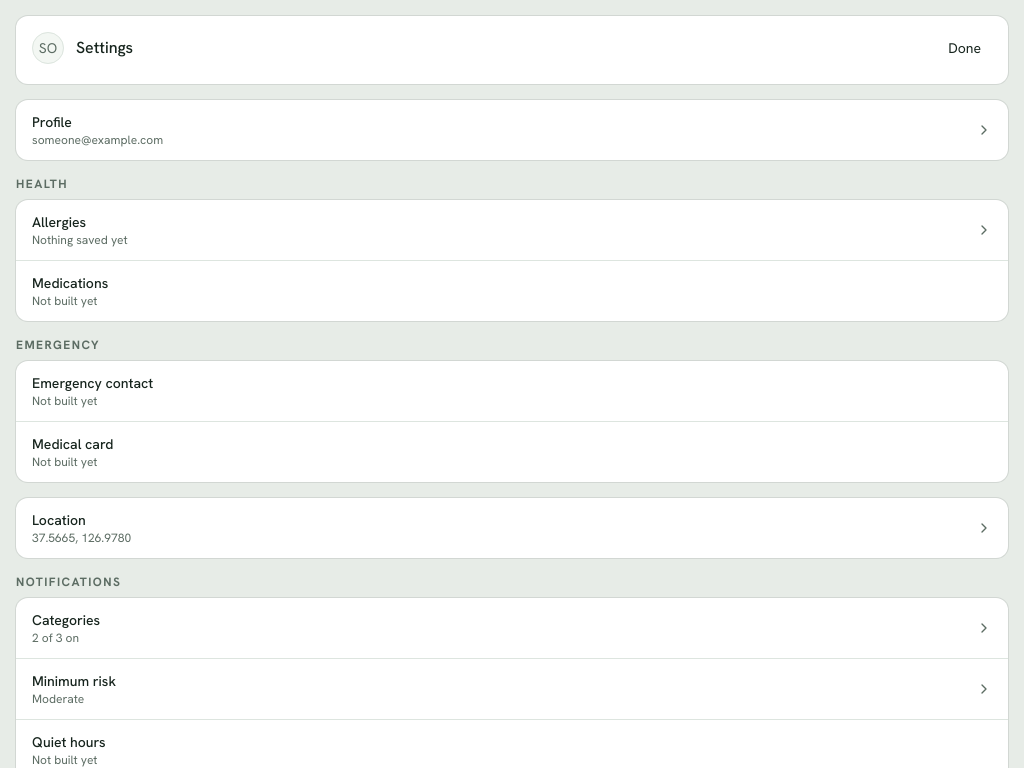
SettingsPage profile and health screens › says so when there are no allergies instead of rendering a blank card
Click the button "Allergies Nothing saved yet": x=59, y=222 [16,200,1008,261]
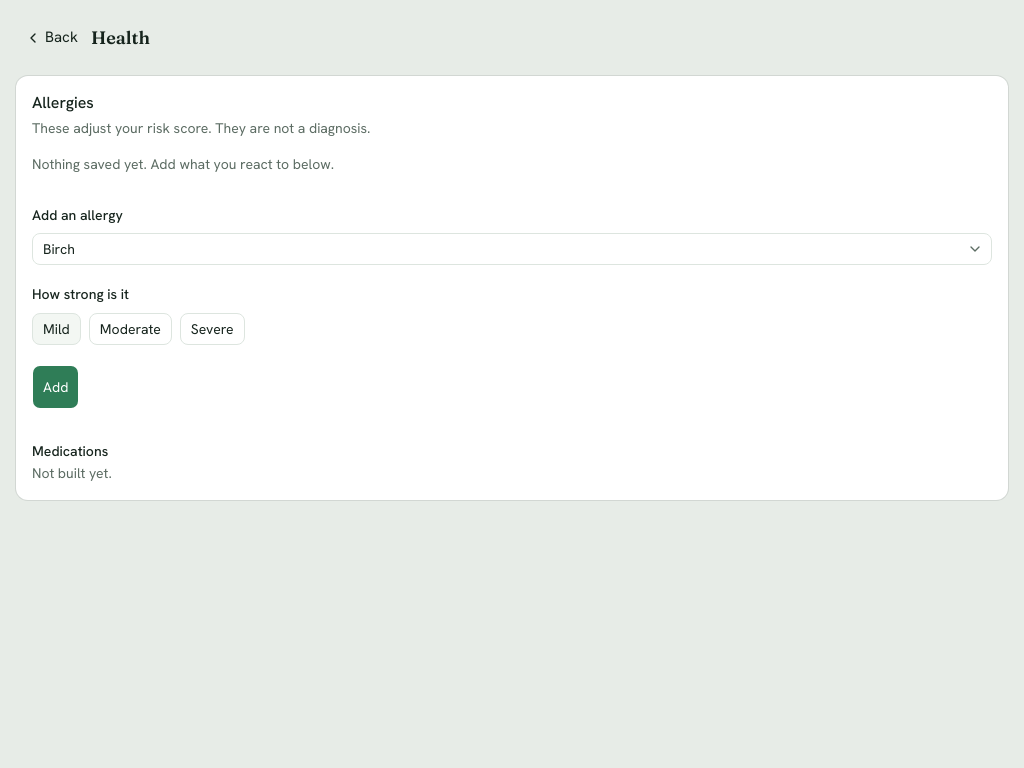
Result: the text "Nothing saved yet. Add what you react to below." is shown at [32,155,334,173]
